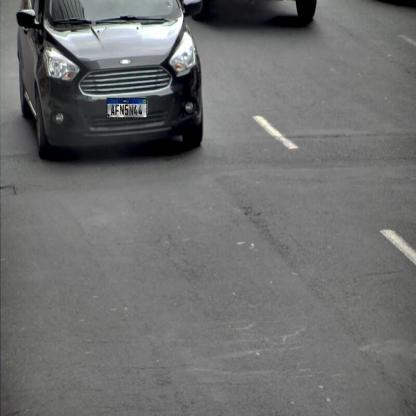PlacaM: (107, 98, 147, 119)
